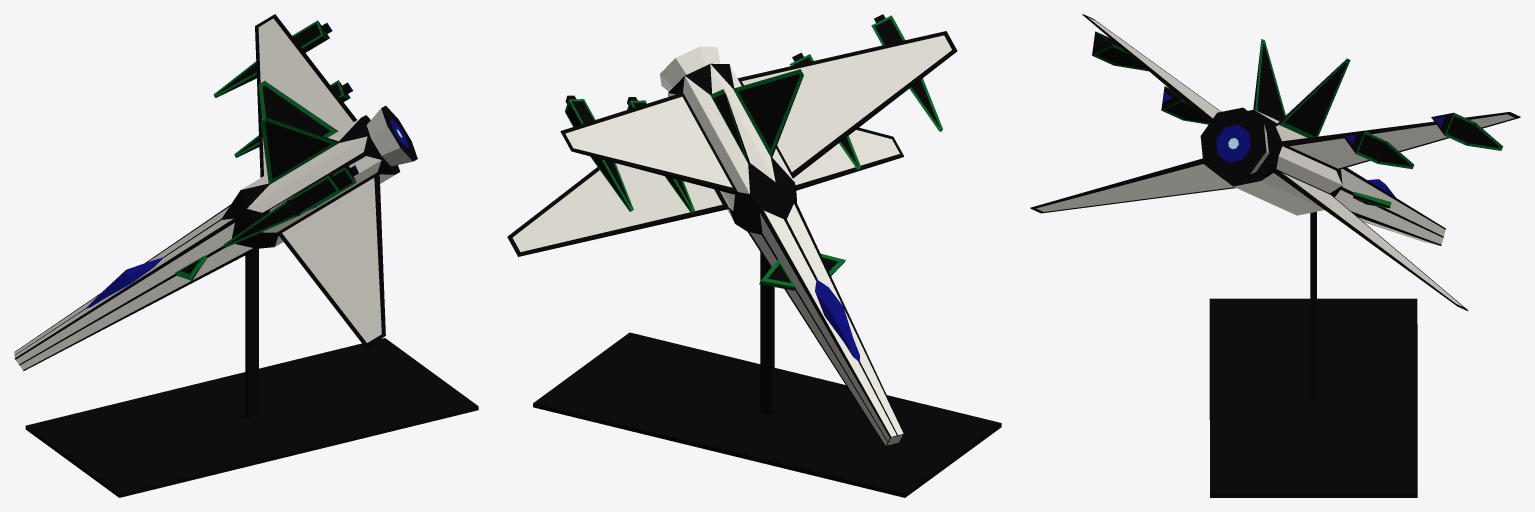
Rendered from spaceship_element.fbx.
3 views of the same model, side by side, from view 1: azimuth 30°, elevation 25°; view 2: azimuth 150°, elevation 25°; view 3: azimuth 270°, elevation 25° (orthographic). The views are drawn at different scales.
Parts seen in each view (by area): view 1: Cube; view 2: Cube; view 3: Cube.
Part boxes in pixels (x1,y1,x2,y2): Cube: (14,14,478,497); Cube: (507,14,1001,497); Cube: (1030,14,1520,497).
Size of the model in its own units: 527 by 436 by 542.
